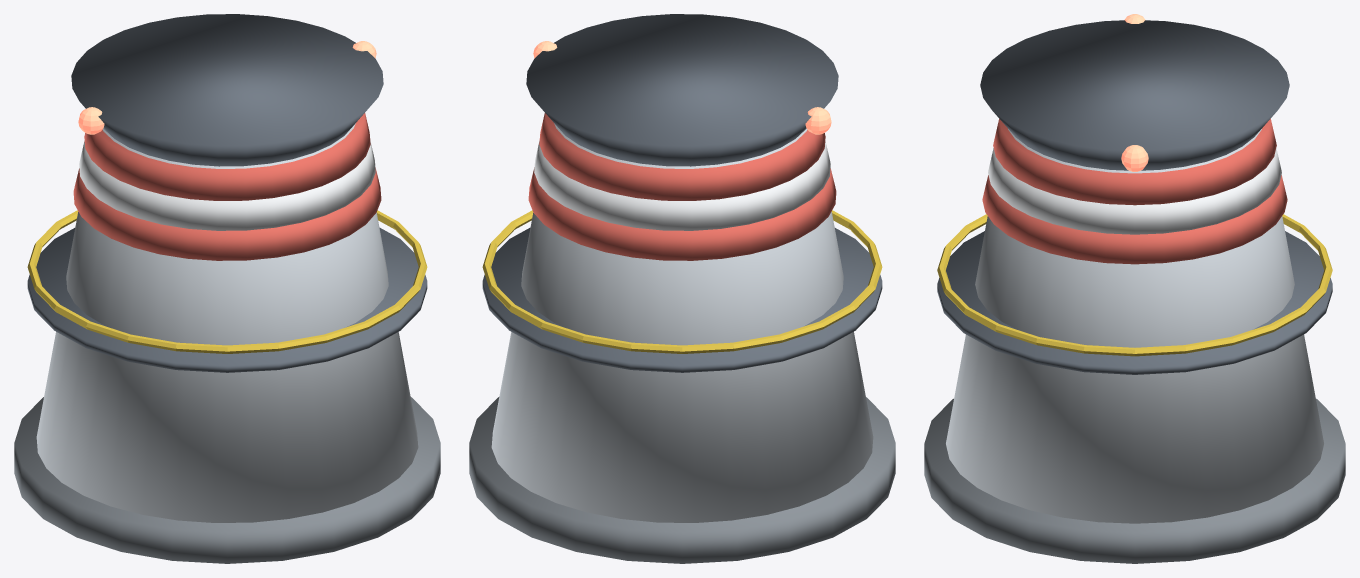
The model's file is exhaust_stack.glb.
The picture shows the model from 3 angles, left to right: view 1: azimuth 30°, elevation 25°; view 2: azimuth 150°, elevation 25°; view 3: azimuth 270°, elevation 25°; orthographic projection.
Parts seen in each view (by area): view 1: StackBody, StackCrown, StackPedestal, CEMSDeck, StackStripe_2, StackStripe_0, StackStripe_1, CEMSRail, StackBeacon_-0.36; view 2: StackBody, StackCrown, StackPedestal, CEMSDeck, StackStripe_2, StackStripe_0, StackStripe_1, CEMSRail, StackBeacon_-0.36; view 3: StackBody, StackCrown, StackPedestal, CEMSDeck, StackStripe_2, StackStripe_0, StackStripe_1, CEMSRail, StackBeacon_0.36.
Part boxes in pixels (bbox=[...]): StackBody: bbox=[36, 123, 418, 522]; StackCrown: bbox=[71, 14, 383, 166]; StackPedestal: bbox=[14, 397, 440, 563]; CEMSDeck: bbox=[27, 227, 427, 372]; StackStripe_2: bbox=[84, 113, 370, 200]; StackStripe_0: bbox=[73, 167, 381, 260]; StackStripe_1: bbox=[79, 141, 375, 230]; CEMSRail: bbox=[27, 210, 427, 353]; StackBeacon_-0.36: bbox=[78, 107, 104, 134]; StackBody: bbox=[491, 123, 873, 522]; StackCrown: bbox=[526, 14, 838, 166]; StackPedestal: bbox=[469, 397, 895, 563]; CEMSDeck: bbox=[482, 227, 882, 372]; StackStripe_2: bbox=[539, 113, 825, 200]; StackStripe_0: bbox=[528, 167, 836, 260]; StackStripe_1: bbox=[534, 141, 830, 230]; CEMSRail: bbox=[482, 210, 882, 353]; StackBeacon_-0.36: bbox=[805, 107, 831, 134]; StackBody: bbox=[946, 129, 1323, 523]; StackCrown: bbox=[980, 20, 1289, 170]; StackPedestal: bbox=[924, 398, 1345, 563]; CEMSDeck: bbox=[937, 231, 1332, 374]; StackStripe_2: bbox=[993, 118, 1276, 205]; StackStripe_0: bbox=[982, 175, 1287, 264]; StackStripe_1: bbox=[988, 148, 1281, 234]; CEMSRail: bbox=[937, 214, 1332, 356]; StackBeacon_0.36: bbox=[1121, 145, 1148, 171].
Size of the model in its own units: 0.98 by 1.01 by 0.98.
